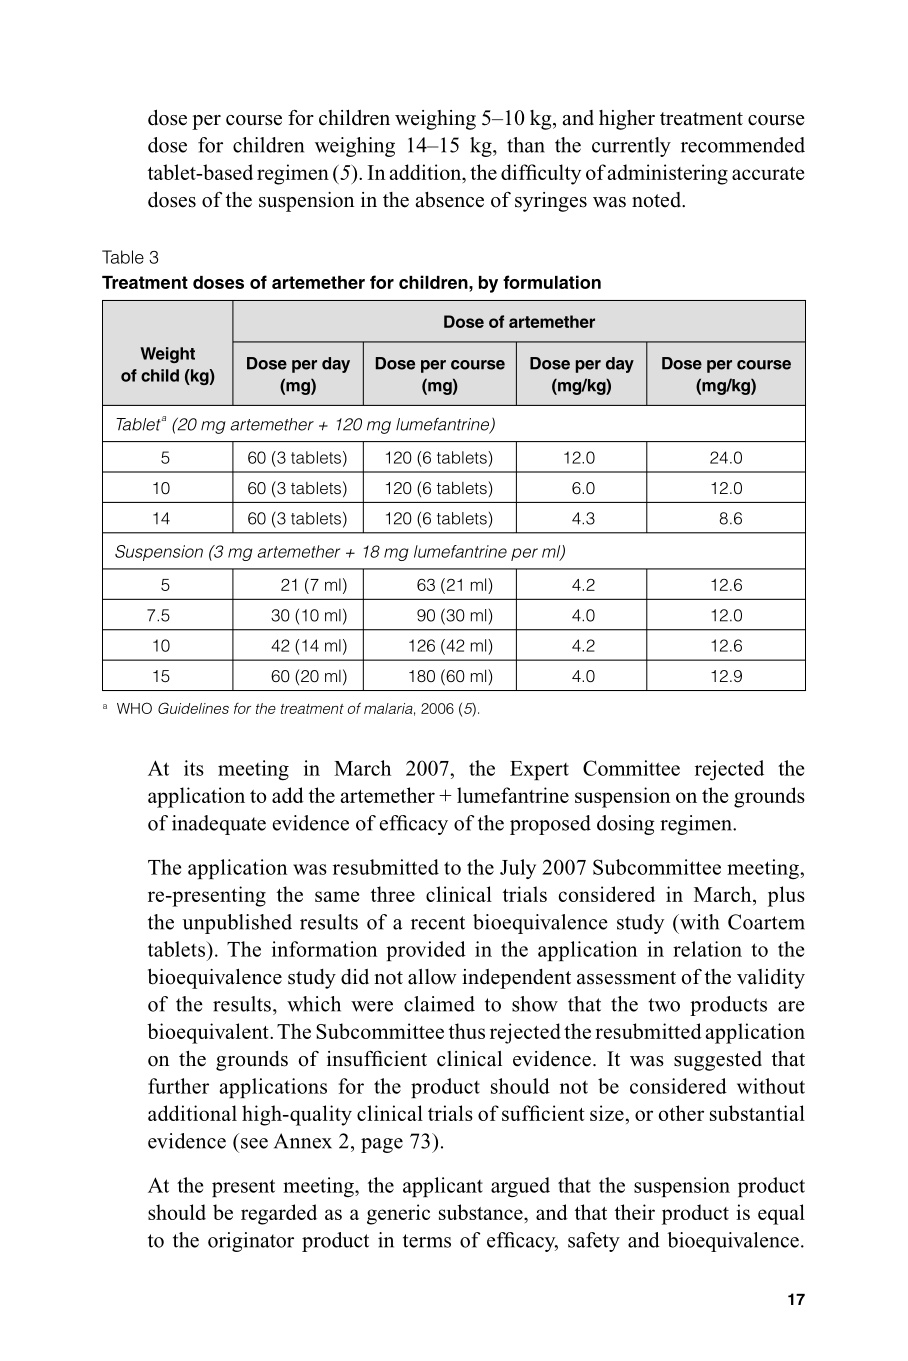merged_cells: (101, 298, 806, 691)
